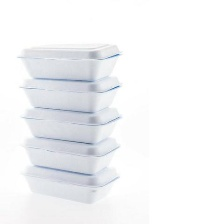foam_box: (11, 38, 127, 83), (15, 102, 126, 147), (12, 72, 123, 115), (19, 133, 122, 178), (19, 162, 124, 206)
